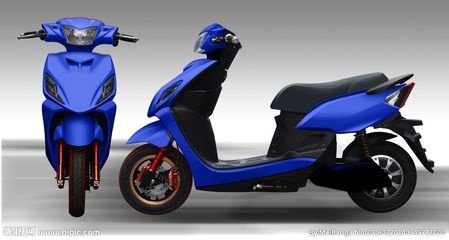non-vehicle: (114, 18, 435, 213), (16, 17, 144, 219)
